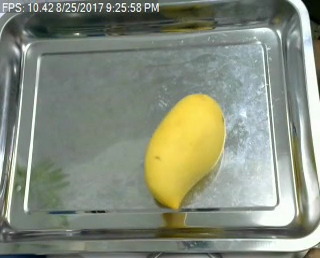Mango: (140, 91, 227, 212)
